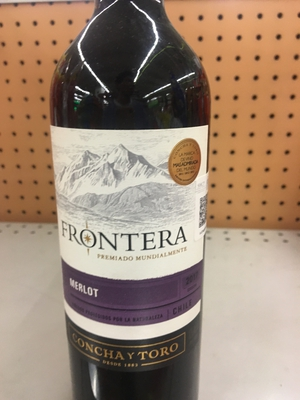frontera merlot: (49, 33, 202, 399)
